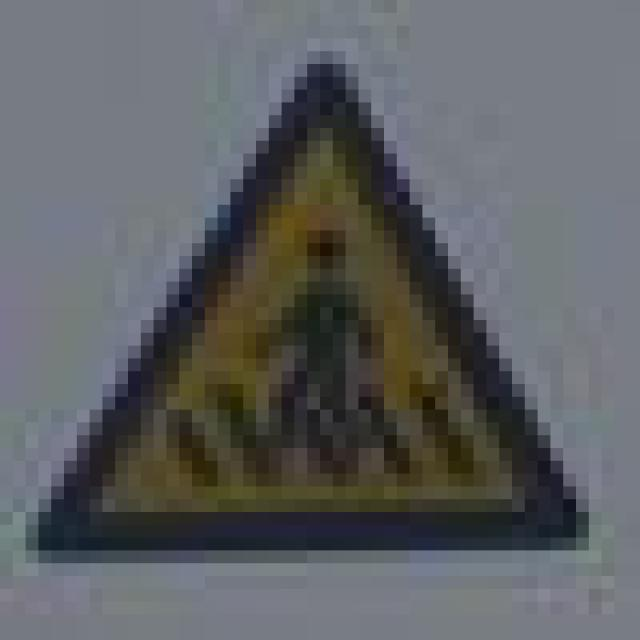pass_either_side: (13, 39, 589, 538)
